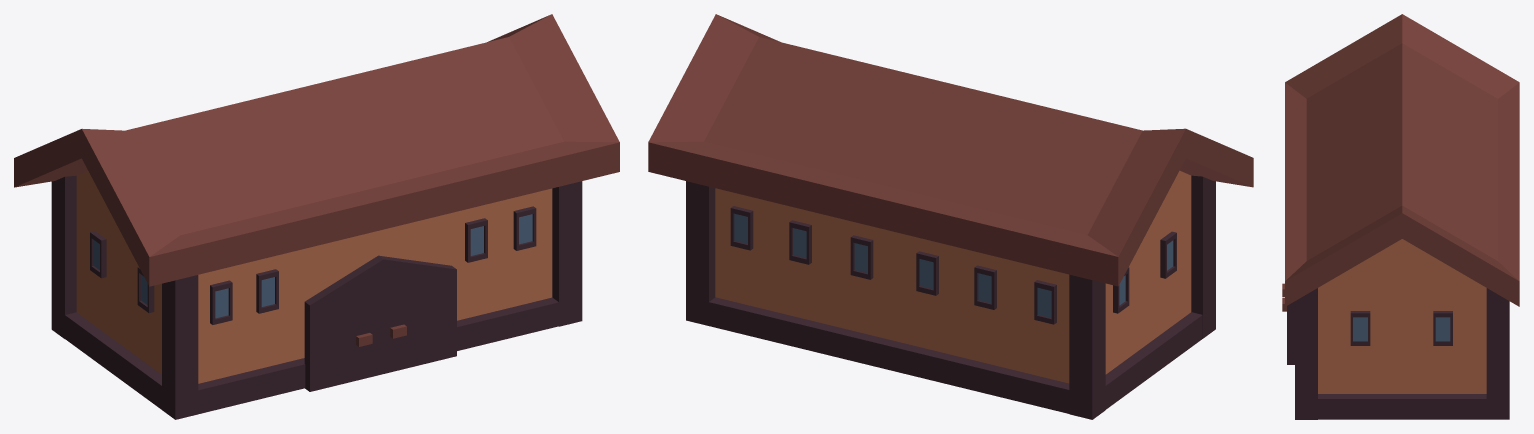
File: storehouse.fbx
3 views of the same model, side by side, from view 1: azimuth 30°, elevation 25°; view 2: azimuth 150°, elevation 25°; view 3: azimuth 270°, elevation 25° (orthographic). The views are drawn at different scales.
Visible parts, largest first — view 1: Drzwi; view 2: Drzwi; view 3: Drzwi.
Part boxes in pixels (left/top/right/bottom): Drzwi: left=14, top=14, right=619, bottom=419; Drzwi: left=648, top=14, right=1253, bottom=419; Drzwi: left=1282, top=14, right=1519, bottom=419.
Bounding box in the file's own units: 9.52 × 4.91 × 4.8.
